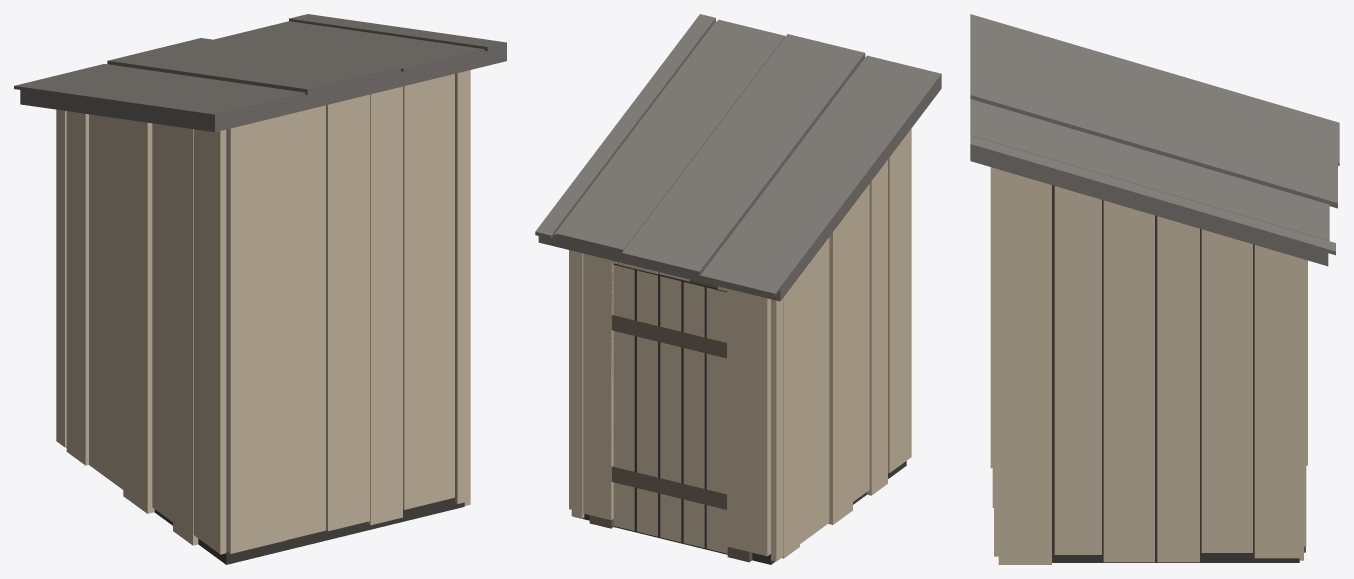
The model's file is recon_1835_north_a3_034__inferred_1835.glb.
3 views of the same model, side by side, from view 1: azimuth 30°, elevation 25°; view 2: azimuth 150°, elevation 25°; view 3: azimuth 270°, elevation 25° (orthographic). The views are drawn at different scales.
Parts seen in each view (by area): view 1: recon_1835_north_a3_034__inferred_1835; view 2: recon_1835_north_a3_034__inferred_1835; view 3: recon_1835_north_a3_034__inferred_1835.
Part boxes in pixels (x1,y1,x2,y2): recon_1835_north_a3_034__inferred_1835: [14, 14, 506, 564]; recon_1835_north_a3_034__inferred_1835: [535, 14, 941, 564]; recon_1835_north_a3_034__inferred_1835: [970, 14, 1339, 564].
Bounding box in the file's own units: 1.79 × 2.76 × 2.13.
